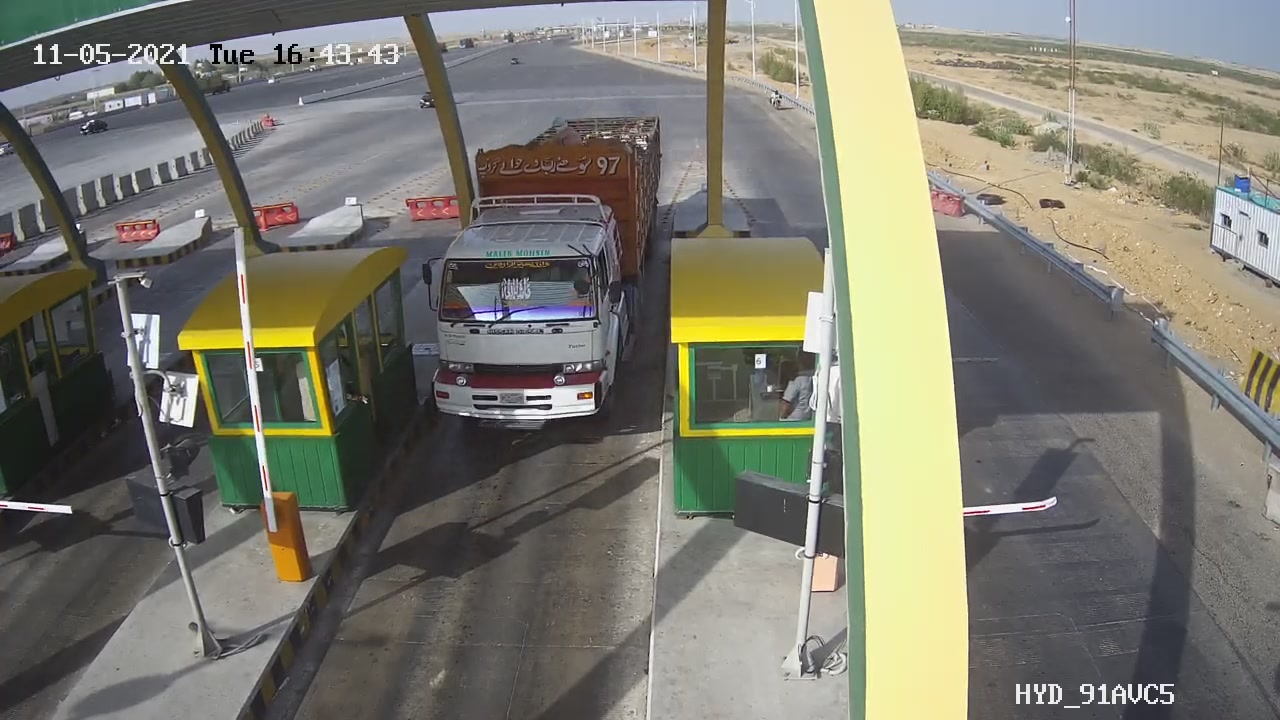F6: (396, 99, 684, 468)
